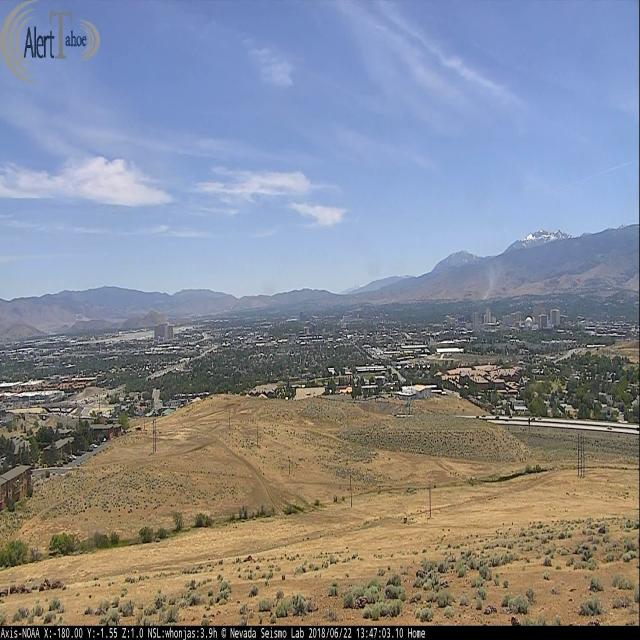smoke: (483, 260, 496, 301)
